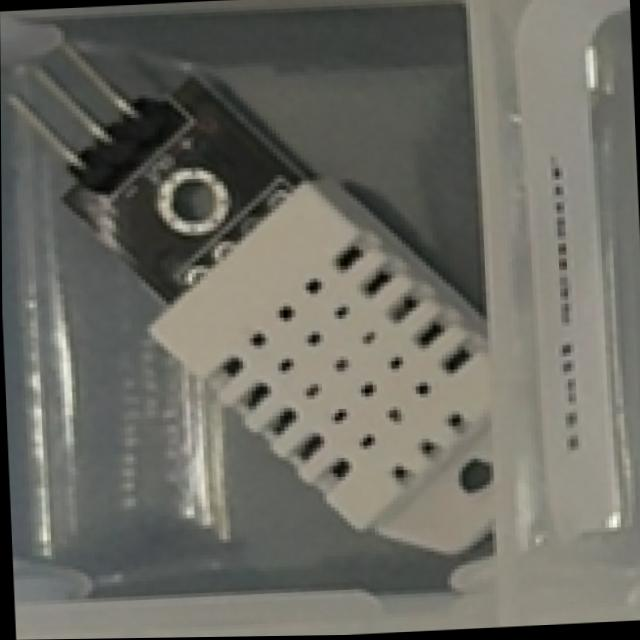Temperature And Humidity Sensor: (2, 2, 561, 572)
